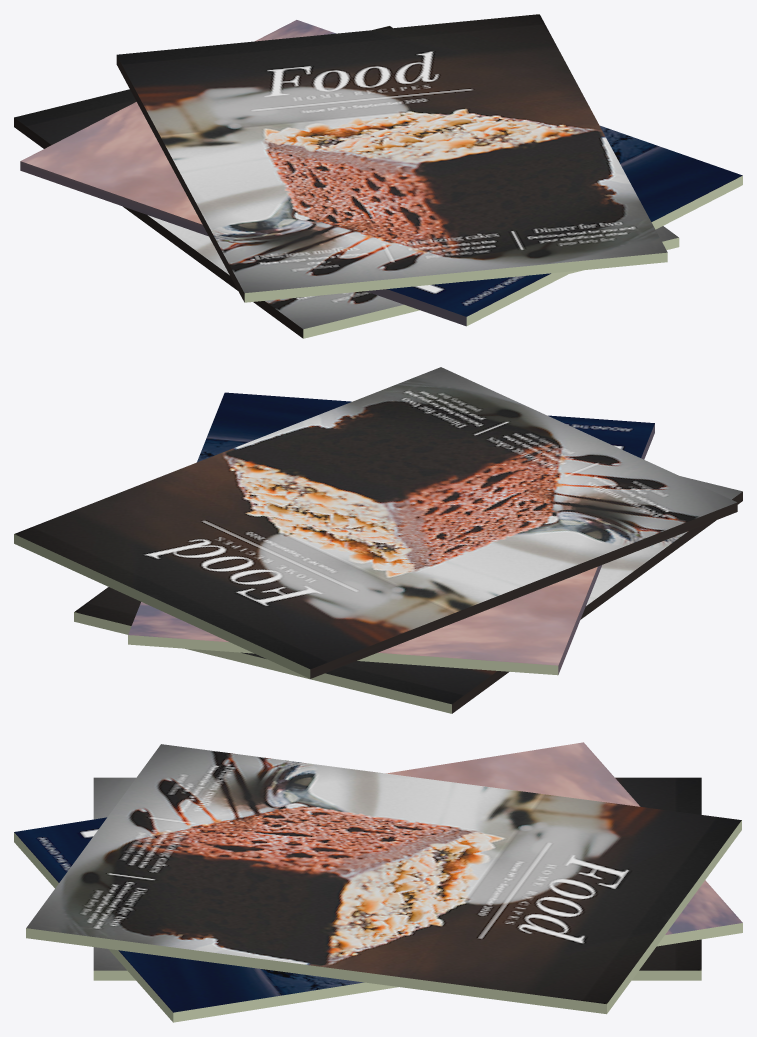
Rendered from Magazine_Stack.fbx.
3 views of the same model, one above another, from view 1: azimuth 30°, elevation 25°; view 2: azimuth 150°, elevation 25°; view 3: azimuth 270°, elevation 25° (orthographic). The views are drawn at different scales.
Parts seen in each view (by area): view 1: Magazine_Stack; view 2: Magazine_Stack; view 3: Magazine_Stack.
Boxes of the visible parts, <box> form: Magazine_Stack: <box>14,14,742,338</box>; Magazine_Stack: <box>14,367,742,713</box>; Magazine_Stack: <box>14,742,742,1022</box>.
Bounding box in the file's own units: 23.28 × 1.2 × 26.38.
